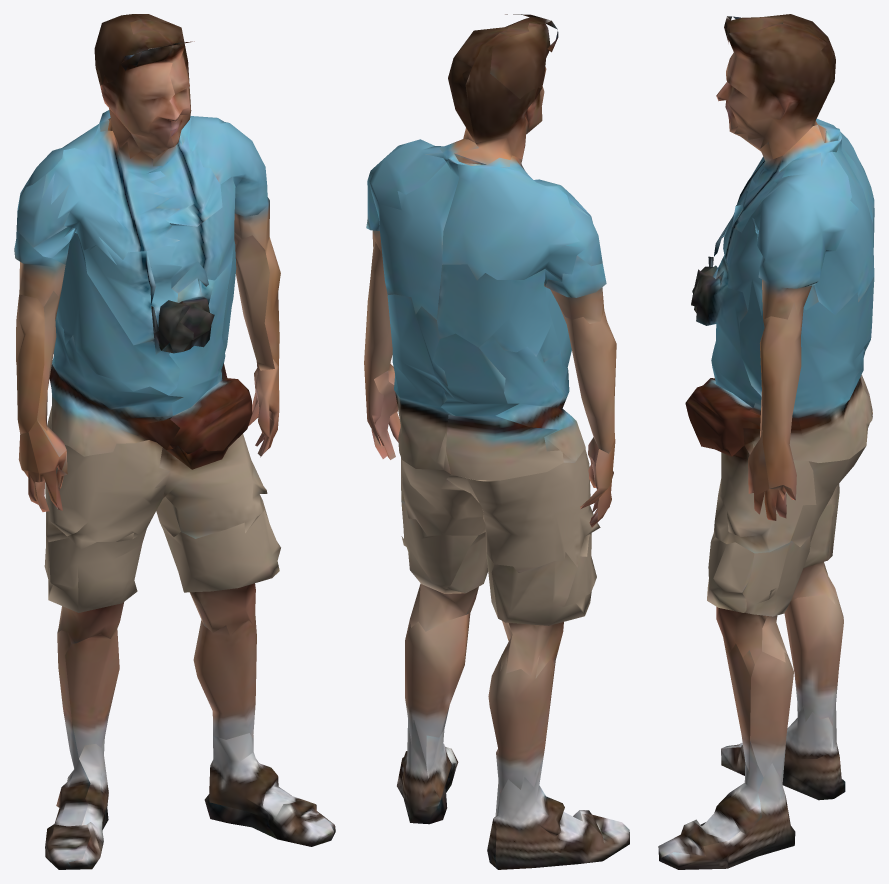
Rendered from bule_cowok_1_idle_lod2.glb.
The picture shows the model from 3 angles, left to right: view 1: azimuth 30°, elevation 25°; view 2: azimuth 150°, elevation 25°; view 3: azimuth 270°, elevation 25°; orthographic projection. The views are drawn at different scales.
Visible parts, largest first — view 1: tripo_node_dce0b732; view 2: tripo_node_dce0b732; view 3: tripo_node_dce0b732.
Boxes of the visible parts, bbox=[...] form: tripo_node_dce0b732: bbox=[14, 14, 335, 869]; tripo_node_dce0b732: bbox=[364, 14, 629, 869]; tripo_node_dce0b732: bbox=[658, 14, 874, 869].
Size of the model in its own units: 33.48 by 99.76 by 24.92.
1 material, 1 textured.
